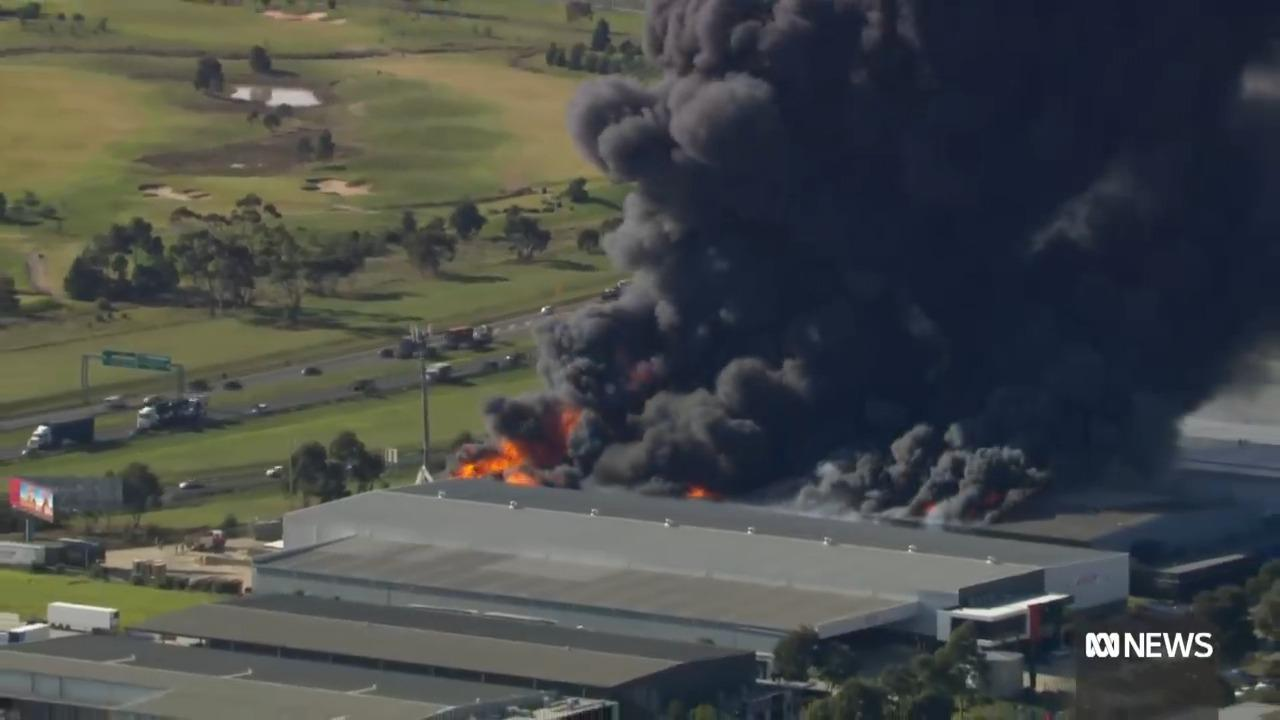fire: (454, 446, 549, 486)
